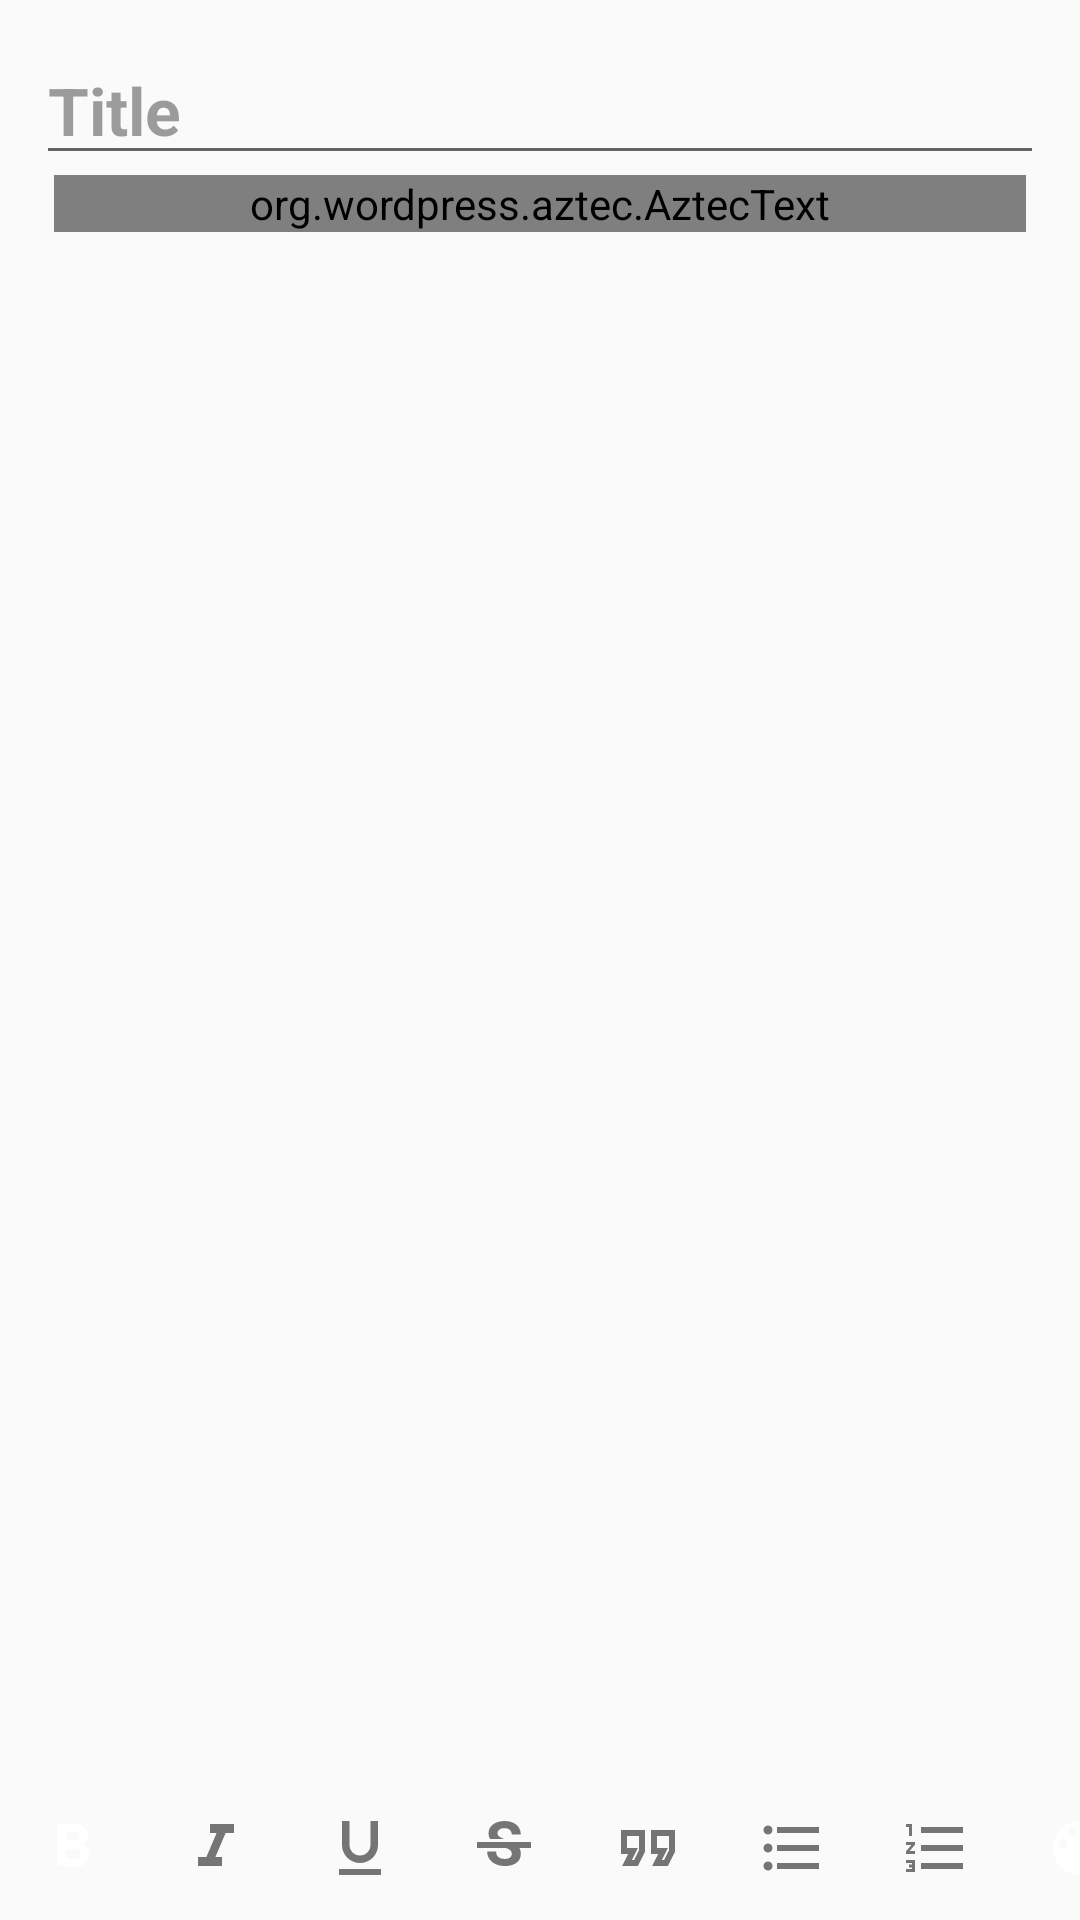

Icons on this 1080px x 1920px Android screen, each with its box as BBox(x1, y1, x2, y2):
format italic: BBox(198, 1824, 234, 1866)
format list bulleted: BBox(763, 1825, 819, 1871)
format list numbered: BBox(906, 1824, 963, 1872)
format quote: BBox(621, 1830, 675, 1866)
format strikethrough: BBox(477, 1821, 531, 1866)
format underlined: BBox(339, 1821, 381, 1875)
